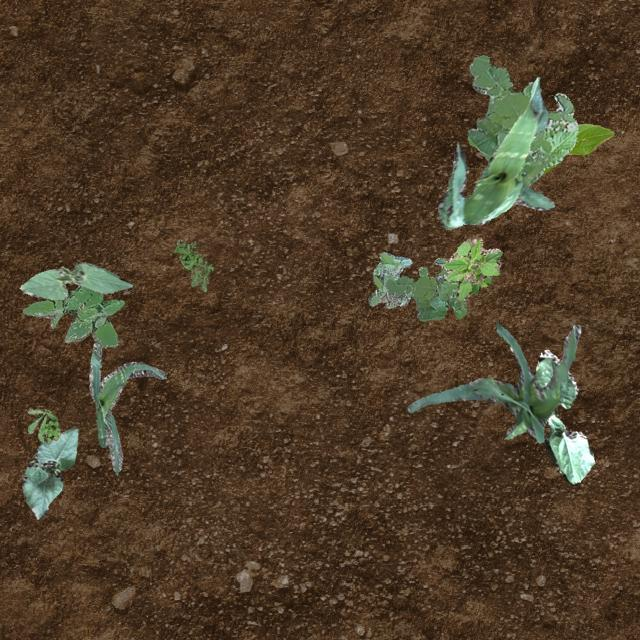crop: (406, 322, 580, 442), (436, 76, 554, 228), (88, 340, 164, 474), (532, 348, 594, 484), (21, 426, 78, 518), (18, 262, 132, 300), (540, 122, 614, 174)
weed: (466, 54, 576, 185), (22, 284, 124, 346), (384, 256, 466, 321), (442, 237, 502, 300), (368, 252, 412, 308), (174, 238, 212, 290), (26, 408, 59, 442)
